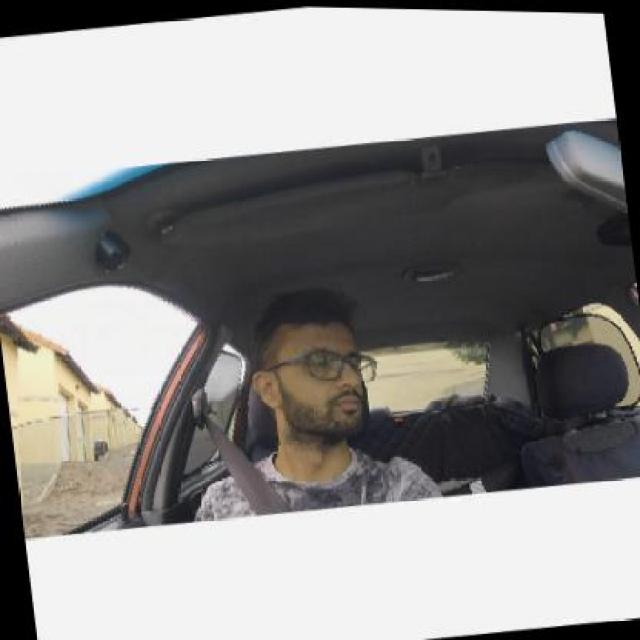person: (258, 304, 377, 440)
